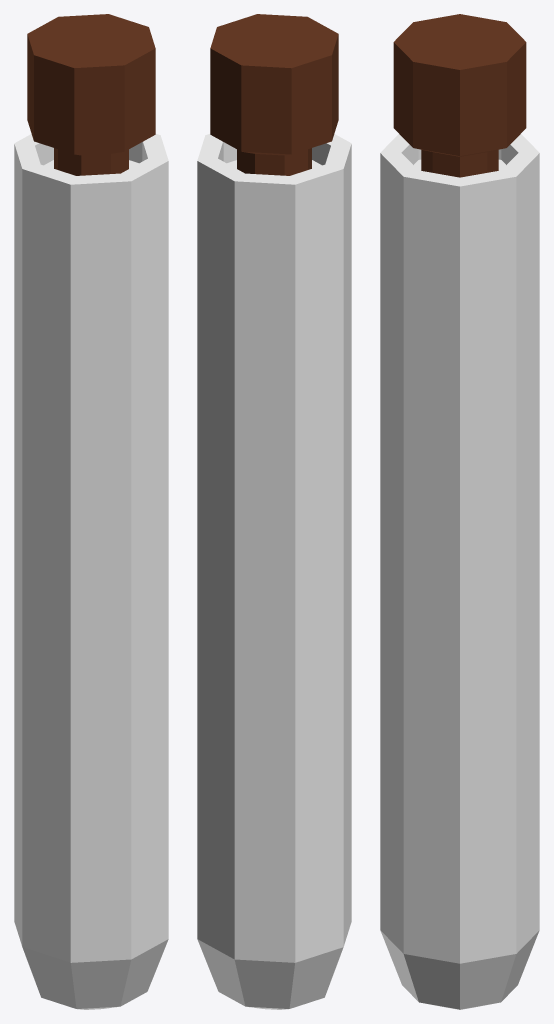
Rendered from Crypt_Potion4.glb.
3 renders of one model, left to right at view 1: azimuth 30°, elevation 25°; view 2: azimuth 150°, elevation 25°; view 3: azimuth 270°, elevation 25°, orthographic.
Visible parts, largest first — view 1: Potion4; view 2: Potion4; view 3: Potion4.
Part boxes in pixels (box(x1,y1,x2,y2)): Potion4: box(14, 14, 168, 1009); Potion4: box(197, 14, 351, 1009); Potion4: box(380, 14, 539, 1009).
Bounding box in the file's own units: 0.1438 × 0.9538 × 0.1438.
